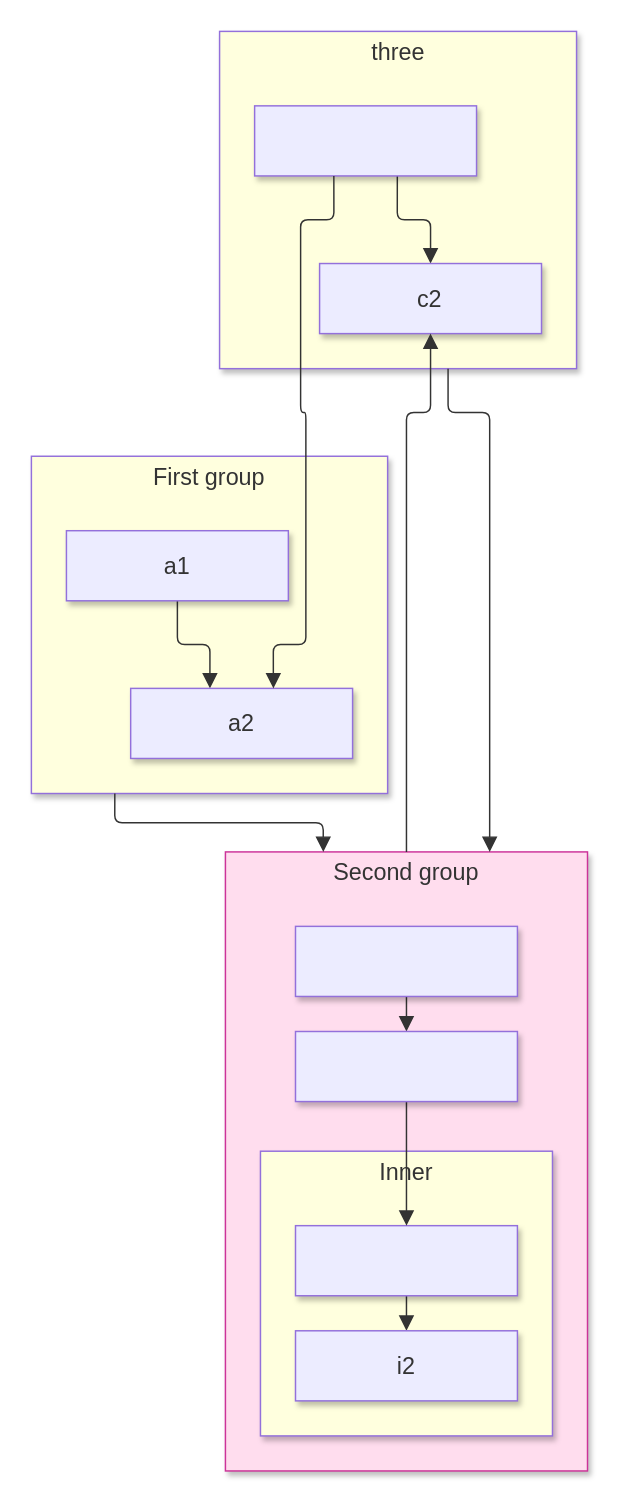
The diagram is 622 pixels wide and 1507 high, and some of its shapes have lost their labels. Here are the shapes that lost their labels. From the top down, the centre of each, then its label:
point 366,142: c1
point 407,963: b1
point 407,1068: b2
point 407,1262: i1
